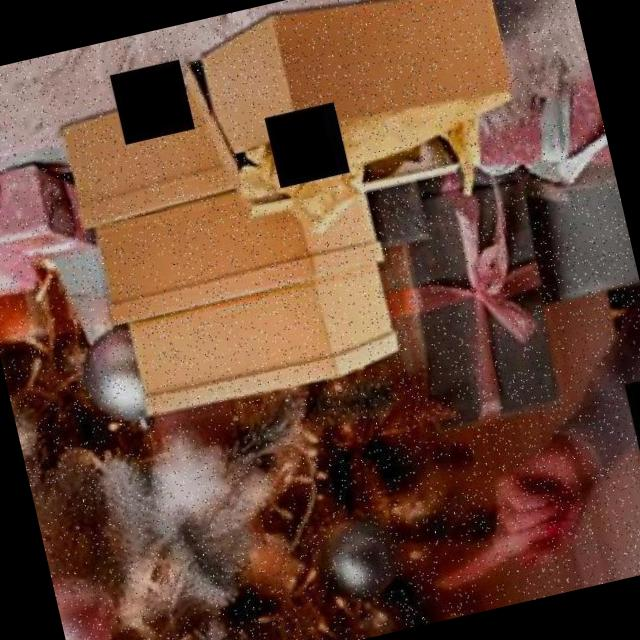box: (190, 0, 528, 195), (100, 258, 414, 436), (90, 170, 392, 332), (38, 76, 259, 238)
